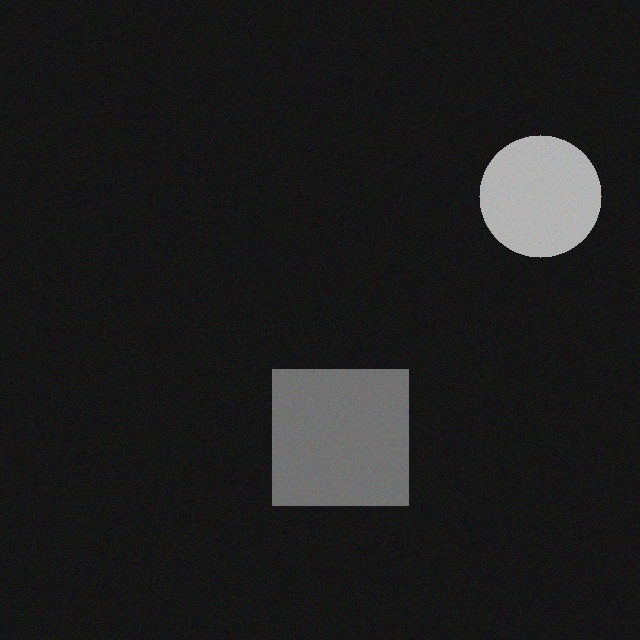circle: (467, 148, 589, 270)
square: (260, 382, 396, 518)
